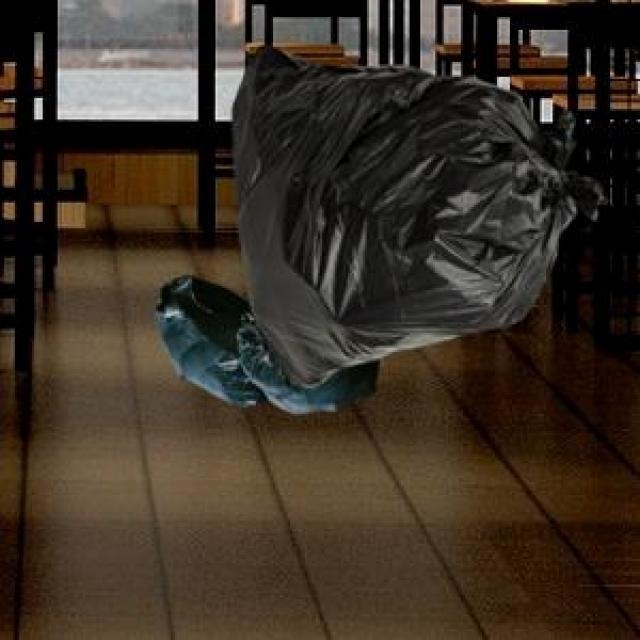Trashbag: (233, 36, 601, 382), (154, 274, 255, 414)
